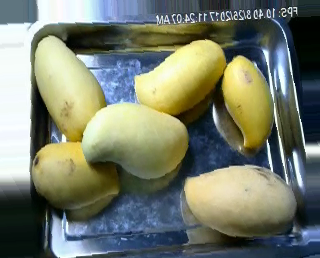Mango: (181, 161, 302, 240), (28, 30, 110, 144), (73, 99, 190, 178), (129, 37, 228, 116), (218, 47, 279, 154), (33, 142, 128, 210)
